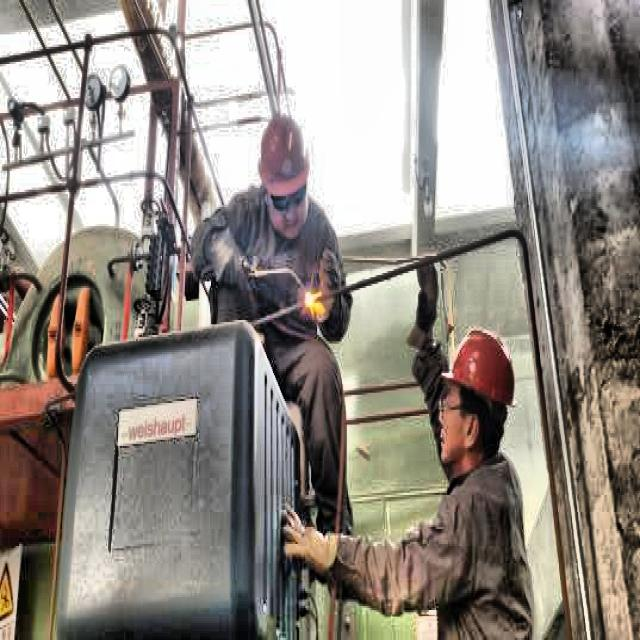helmet: (441, 322, 522, 467), (255, 105, 310, 228)
